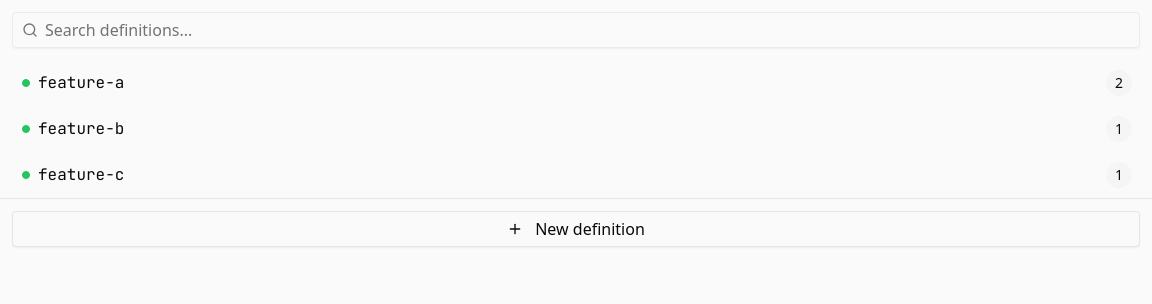
Test: DefinitionList › should cancel adding with X button
The image size is (1152, 304).
Click the button "New definition".
click(576, 229)  # box [12,211,1140,247]
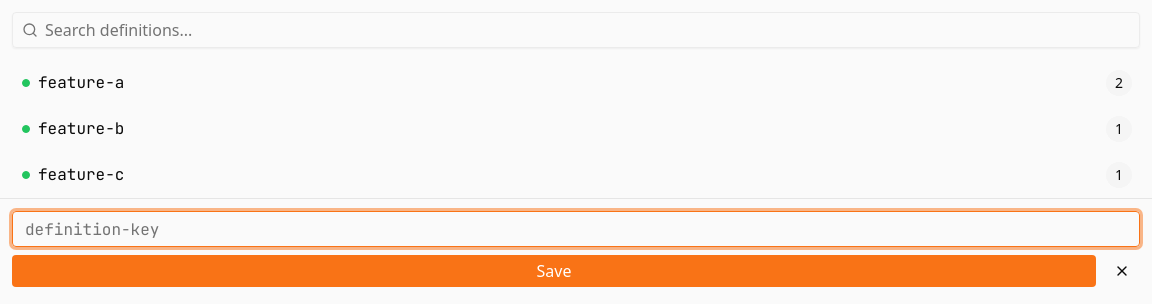
Click the button named "Cancel adding definition".
click(1122, 271)  # box [1104,255,1140,287]
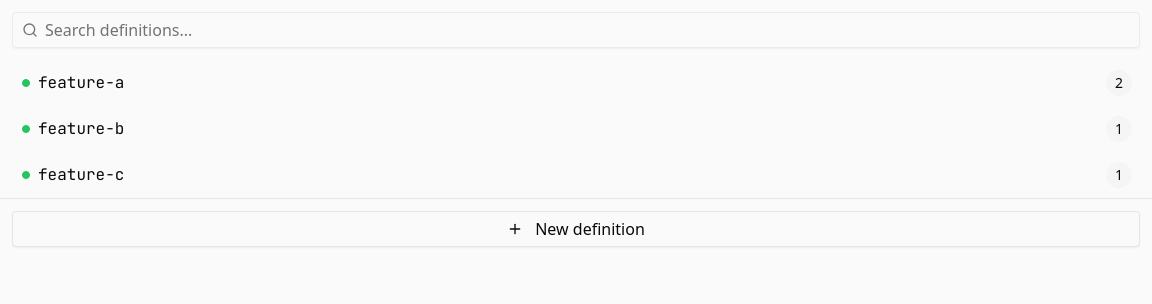
expect the button "New definition" is shown: met, box [12,211,1140,247]
